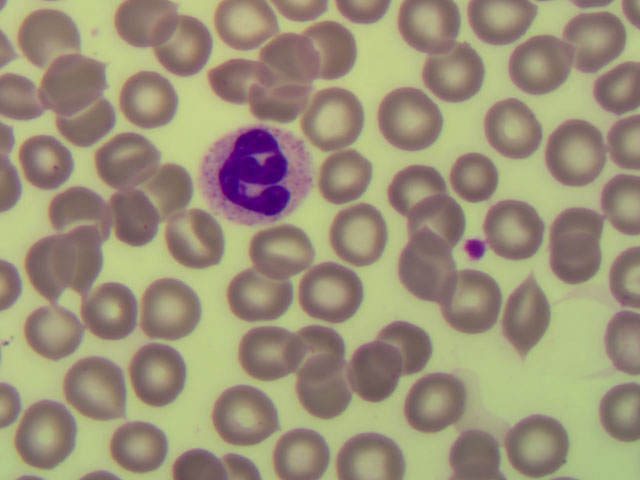Platelets: (465, 241, 487, 260)
RBC: (263, 36, 331, 102), (507, 30, 575, 96), (469, 90, 537, 156), (541, 116, 609, 182), (374, 85, 442, 151), (435, 144, 503, 210), (479, 194, 547, 260), (435, 269, 503, 335), (386, 231, 454, 297), (313, 140, 381, 206), (326, 199, 394, 265), (305, 80, 373, 146), (415, 34, 483, 100), (291, 18, 359, 84), (499, 410, 569, 471), (404, 367, 468, 432), (94, 131, 163, 191), (115, 64, 175, 131), (211, 387, 278, 446), (154, 20, 212, 87), (157, 212, 226, 268), (292, 356, 353, 418), (296, 17, 359, 77), (565, 13, 627, 73), (590, 106, 640, 179), (505, 281, 553, 357), (584, 309, 640, 374), (345, 339, 401, 404), (63, 362, 129, 417), (406, 197, 466, 257), (588, 52, 640, 120), (250, 224, 316, 276), (215, 1, 283, 51), (338, 429, 404, 480), (465, 1, 541, 45), (18, 402, 71, 465), (232, 267, 291, 322), (400, 1, 461, 54), (583, 380, 640, 436), (601, 238, 640, 318), (303, 271, 363, 320), (245, 74, 305, 123), (207, 57, 267, 106), (553, 206, 613, 255), (546, 235, 606, 284), (370, 323, 430, 372), (283, 319, 343, 368), (240, 326, 300, 375), (25, 9, 85, 58), (45, 57, 105, 106), (57, 92, 117, 141), (19, 137, 79, 186), (134, 159, 194, 208), (103, 196, 163, 245), (49, 191, 109, 240), (52, 229, 112, 278), (29, 240, 89, 289), (539, 431, 599, 480), (78, 284, 138, 333), (26, 306, 86, 355), (146, 284, 206, 333), (269, 431, 329, 480), (203, 431, 263, 480), (167, 429, 227, 478), (73, 431, 133, 480), (129, 352, 189, 401), (110, 420, 170, 469), (1, 377, 60, 426), (114, 1, 174, 49), (1, 125, 59, 174), (1, 168, 59, 217), (1, 257, 59, 306), (1, 1, 60, 49), (595, 173, 639, 234), (446, 429, 507, 473), (386, 164, 441, 211), (1, 75, 48, 122), (559, 1, 614, 38), (1, 15, 37, 70), (450, 439, 497, 480), (339, 1, 396, 34), (266, 1, 340, 26), (607, 1, 640, 35), (10, 467, 48, 480)
WBC: (200, 130, 311, 219)
